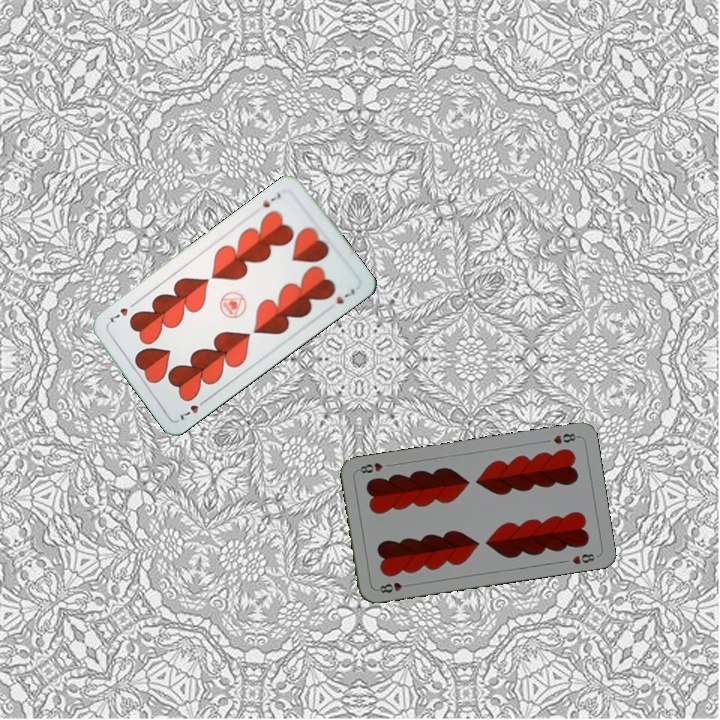H7: (176, 395, 210, 423), (258, 189, 283, 210)
H8: (373, 578, 413, 595), (549, 429, 581, 447)
